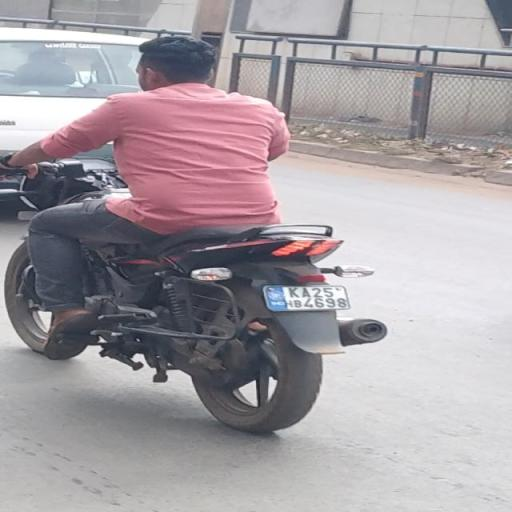bike: (1, 34, 392, 436)
numberplate: (268, 288, 352, 312)
withouthelmet: (140, 38, 214, 88)
